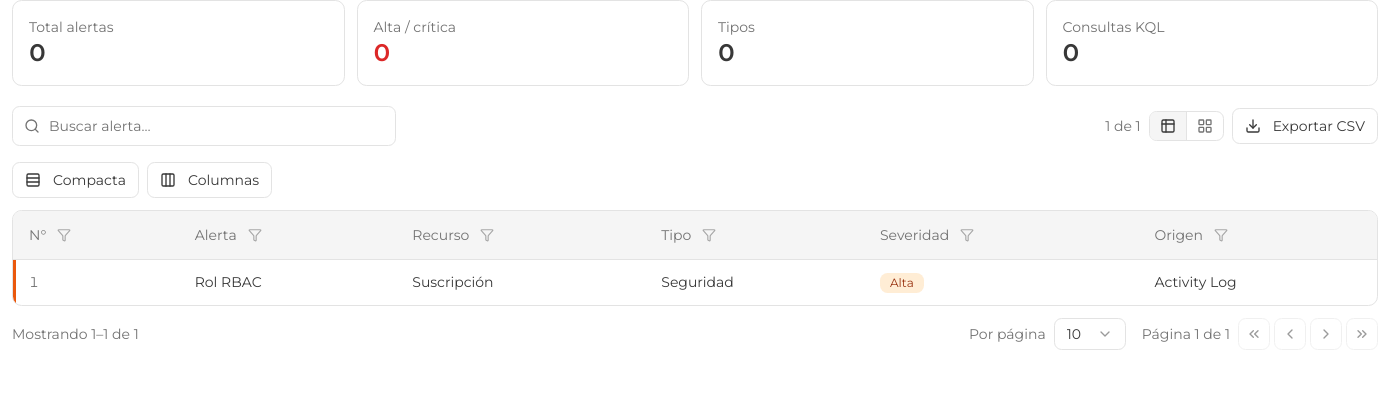
Test case: renderiza tarjetas y filtra por búsqueda
Expected: the text "Rol RBAC" is shown, [195,273,262,291]
Type "zzz" into the field with placeholder "Buscar alerta…" at (204, 126), box [12,106,396,146]
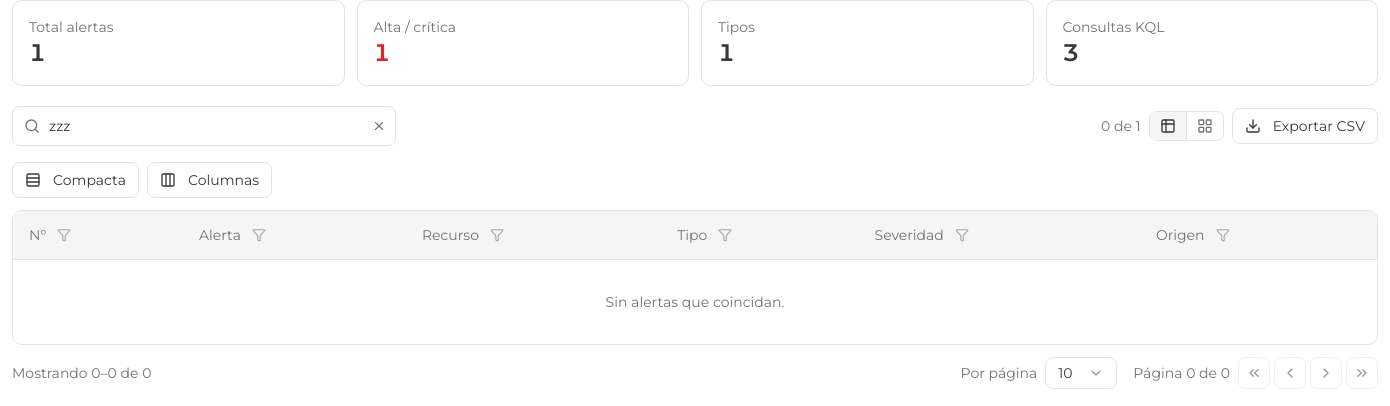
Expected: the text "Rol RBAC" is gone
